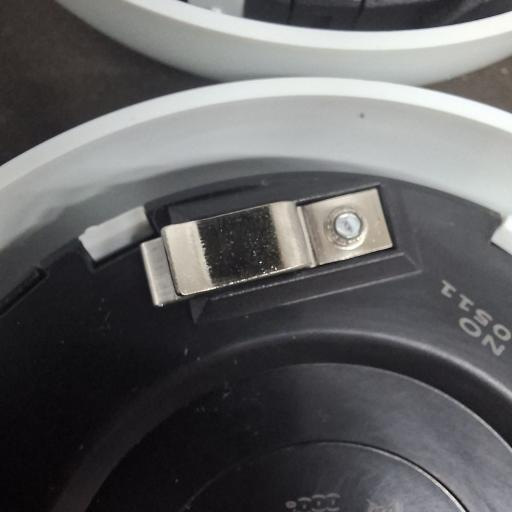yayli: (144, 186, 395, 305)
